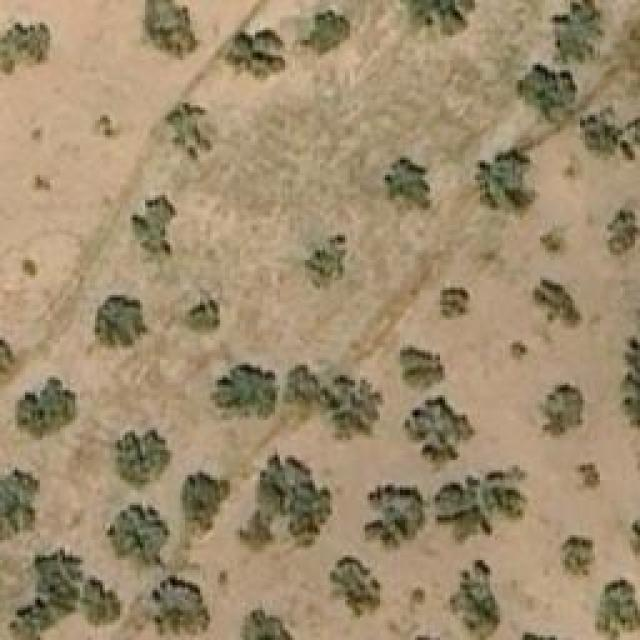Tree: (240, 452, 333, 550), (283, 365, 386, 440), (435, 465, 525, 545), (517, 63, 595, 133), (405, 395, 475, 473), (473, 143, 536, 216), (108, 502, 173, 570), (449, 557, 502, 640), (18, 378, 78, 441), (365, 485, 428, 545), (210, 365, 278, 418), (138, 0, 198, 60), (580, 105, 640, 163), (152, 575, 210, 635), (295, 233, 348, 298), (90, 295, 153, 348), (225, 28, 285, 83), (553, 0, 603, 65), (115, 427, 170, 485), (163, 103, 216, 163), (330, 555, 380, 618), (537, 378, 585, 441), (0, 468, 40, 543), (130, 195, 178, 255), (32, 548, 80, 608), (595, 577, 640, 640), (183, 470, 228, 530), (0, 23, 50, 76), (400, 0, 475, 35), (533, 278, 583, 328), (298, 10, 351, 55), (385, 155, 430, 208), (83, 575, 126, 625), (400, 345, 445, 390), (557, 535, 595, 583), (605, 210, 640, 258), (243, 610, 293, 640), (188, 288, 221, 328), (540, 228, 570, 261), (440, 288, 470, 318), (93, 115, 123, 140), (578, 463, 601, 493), (410, 588, 425, 613), (20, 258, 38, 278), (510, 340, 528, 360), (32, 175, 50, 190)
